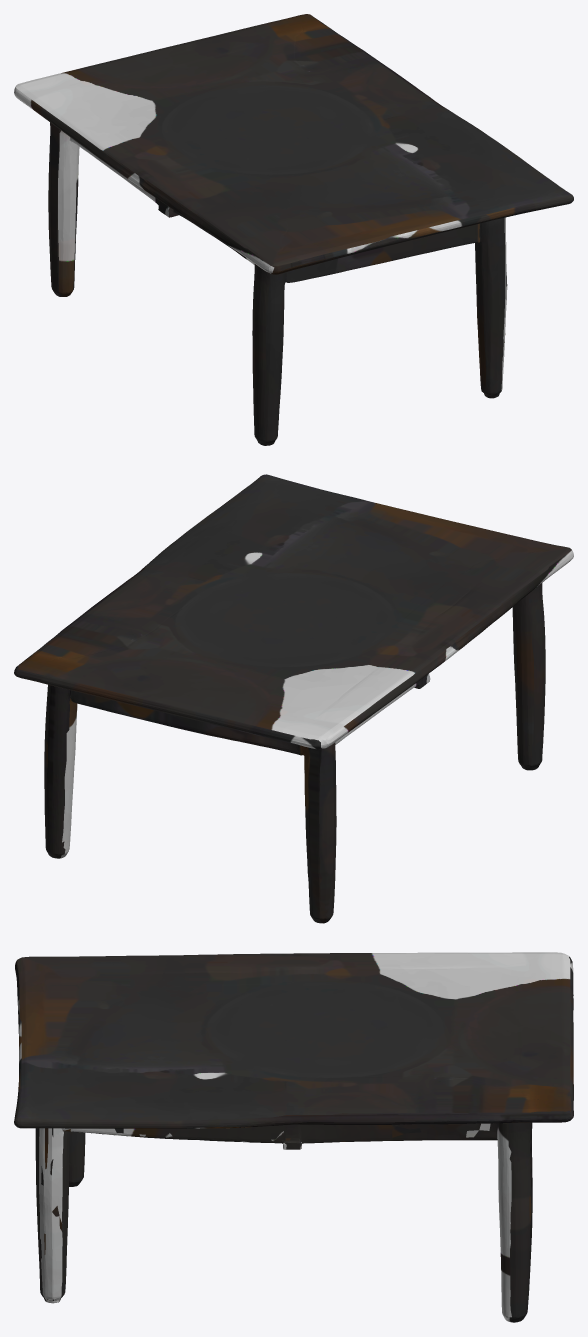
3 renders of one model, top to bottom at view 1: azimuth 30°, elevation 25°; view 2: azimuth 150°, elevation 25°; view 3: azimuth 270°, elevation 25°, orthographic. The views are drawn at different scales.
Size of the model in its own units: 1.23 by 0.75 by 1.74.
